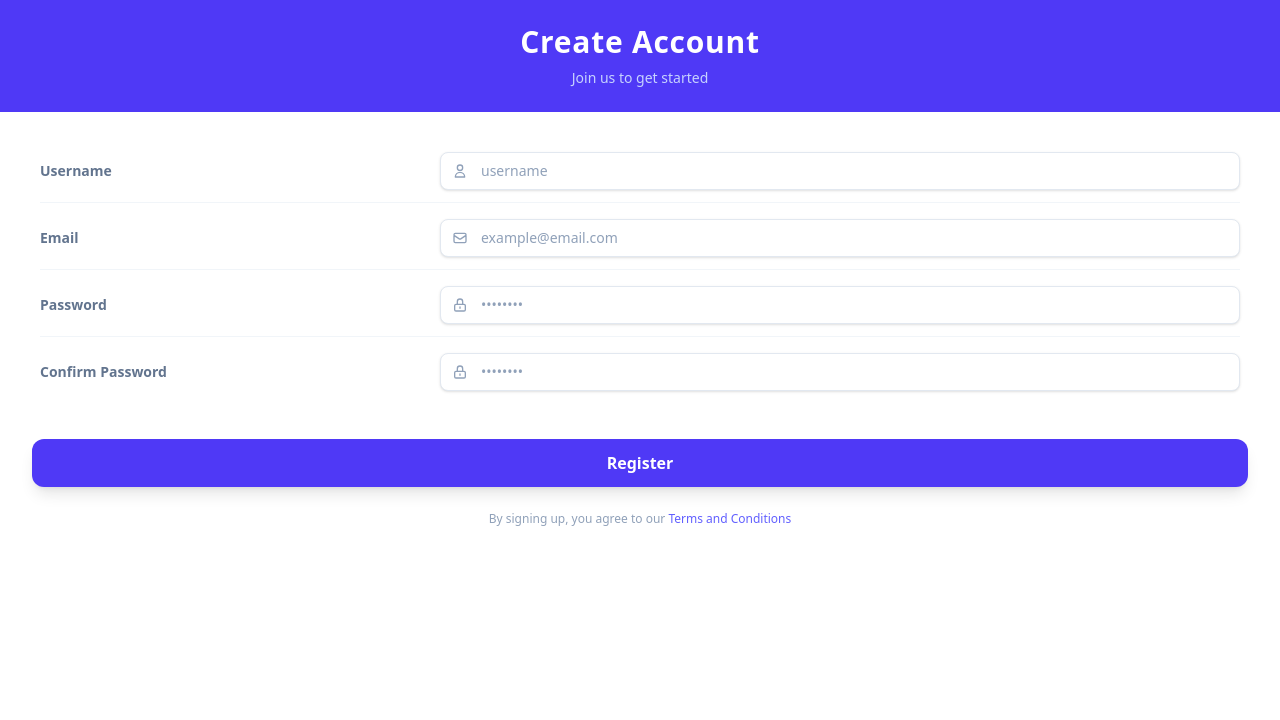
Test case: RegisterPage Component › should show error if form is submitted empty
Click the button "Register" at (640, 463), box [32,439,1248,487]
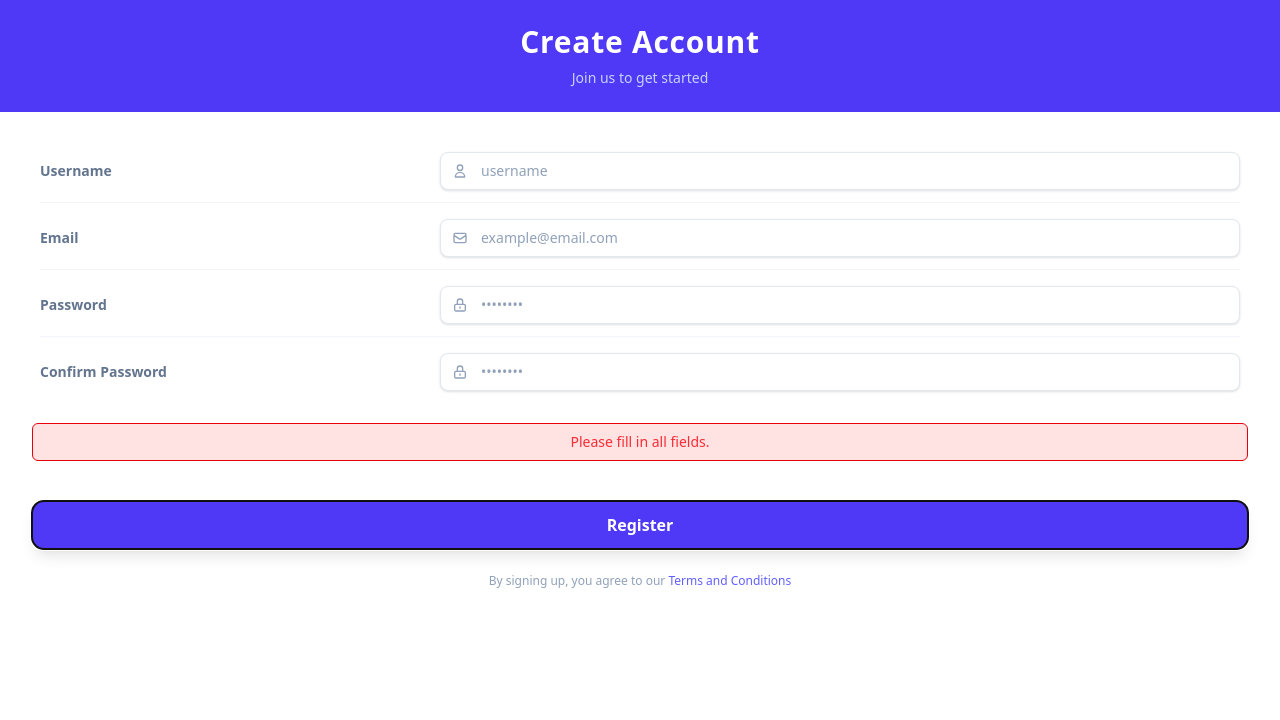
Result: the text "Please fill in all fields." is shown at [32,423,1248,461]
